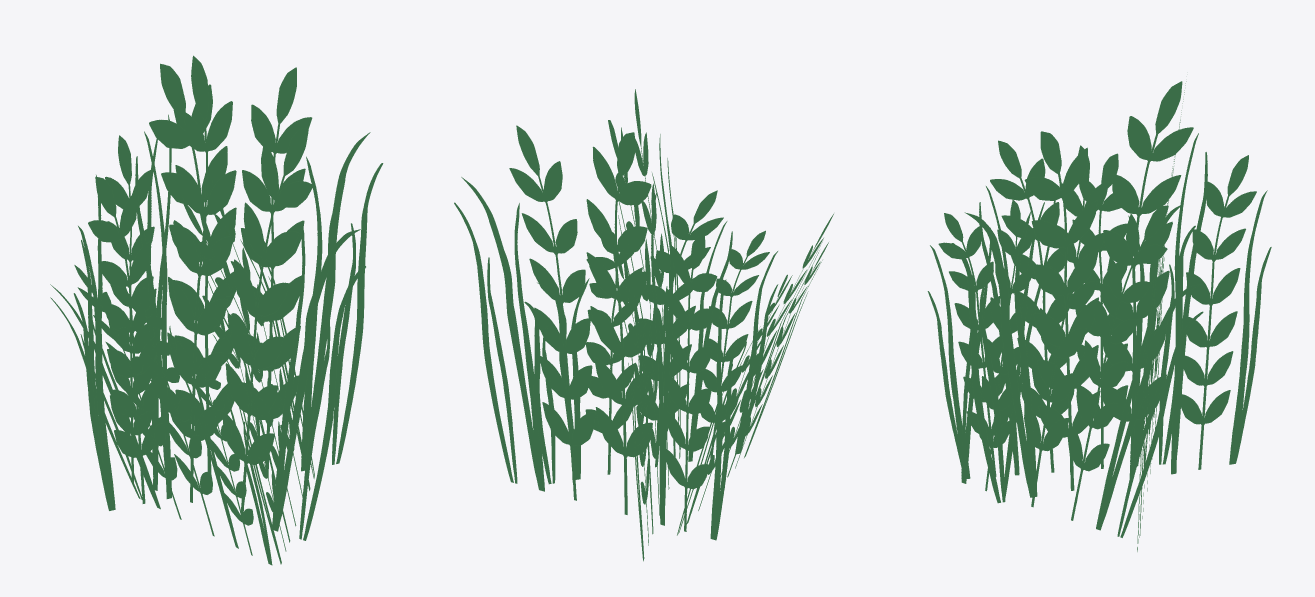
File: MEADOW_SM_Grass_03_01.gltf
The picture shows the model from 3 angles, left to right: view 1: azimuth 30°, elevation 25°; view 2: azimuth 150°, elevation 25°; view 3: azimuth 270°, elevation 25°; orthographic projection. The views are drawn at different scales.
Parts seen in each view (by area): view 1: SM_Grass_03_01_LOD0; view 2: SM_Grass_03_01_LOD0; view 3: SM_Grass_03_01_LOD0.
Boxes of the visible parts, bbox=[...] form: SM_Grass_03_01_LOD0: bbox=[50, 55, 383, 565]; SM_Grass_03_01_LOD0: bbox=[454, 89, 833, 561]; SM_Grass_03_01_LOD0: bbox=[927, 81, 1271, 551].
Size of the model in its own units: 0.5105 by 0.5753 by 0.5048.
Materials: 1 (1 with a texture image).
